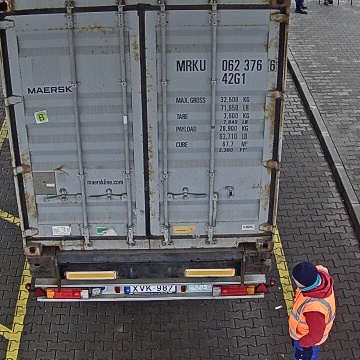serial_id: (176, 59, 275, 71)
